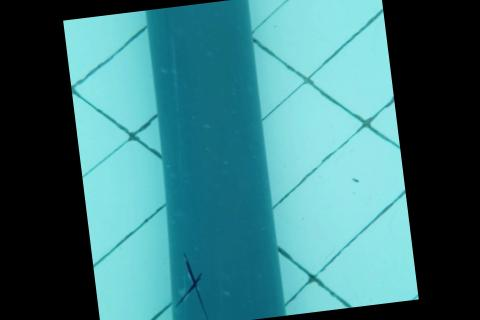keretakan: (170, 247, 221, 320)
